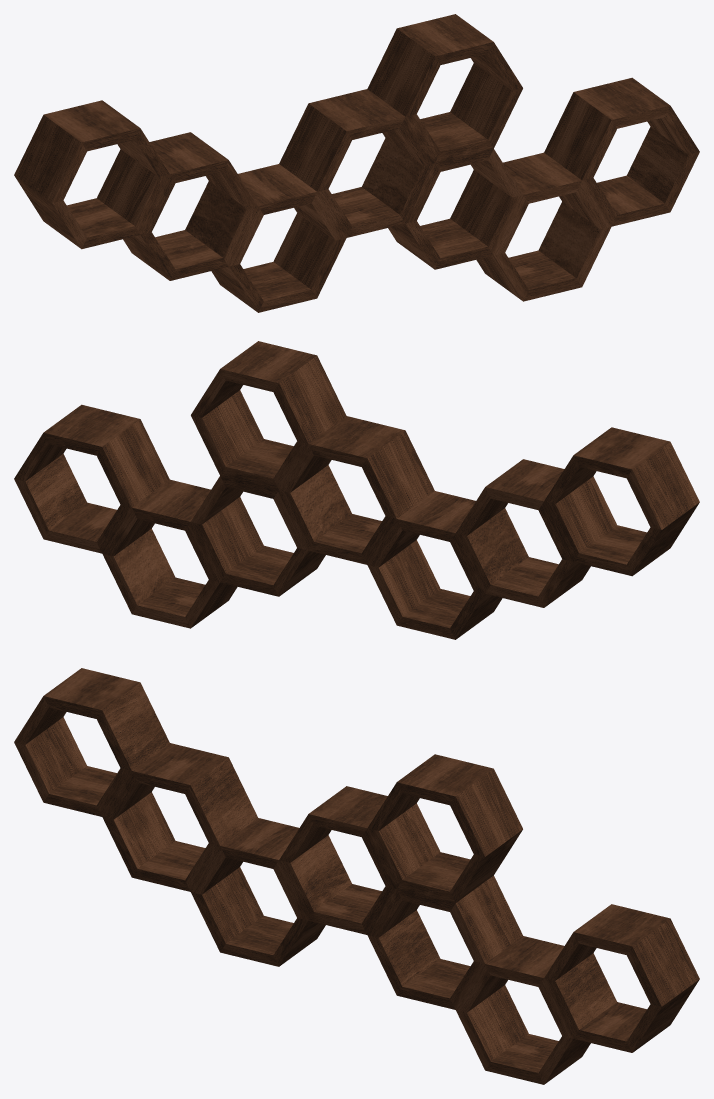
The model's file is shelf_019.fbx.
3 renders of one model, top to bottom at view 1: azimuth 30°, elevation 25°; view 2: azimuth 150°, elevation 25°; view 3: azimuth 330°, elevation 25°, orthographic.
Parts seen in each view (by area): view 1: shelf_019; view 2: shelf_019; view 3: shelf_019.
Boxes of the visible parts, x1,y1,x2,y2 form: shelf_019: (14,14,699,312); shelf_019: (14,341,699,639); shelf_019: (14,668,699,1084).
Size of the model in its own units: 334 by 34.11 by 132.
